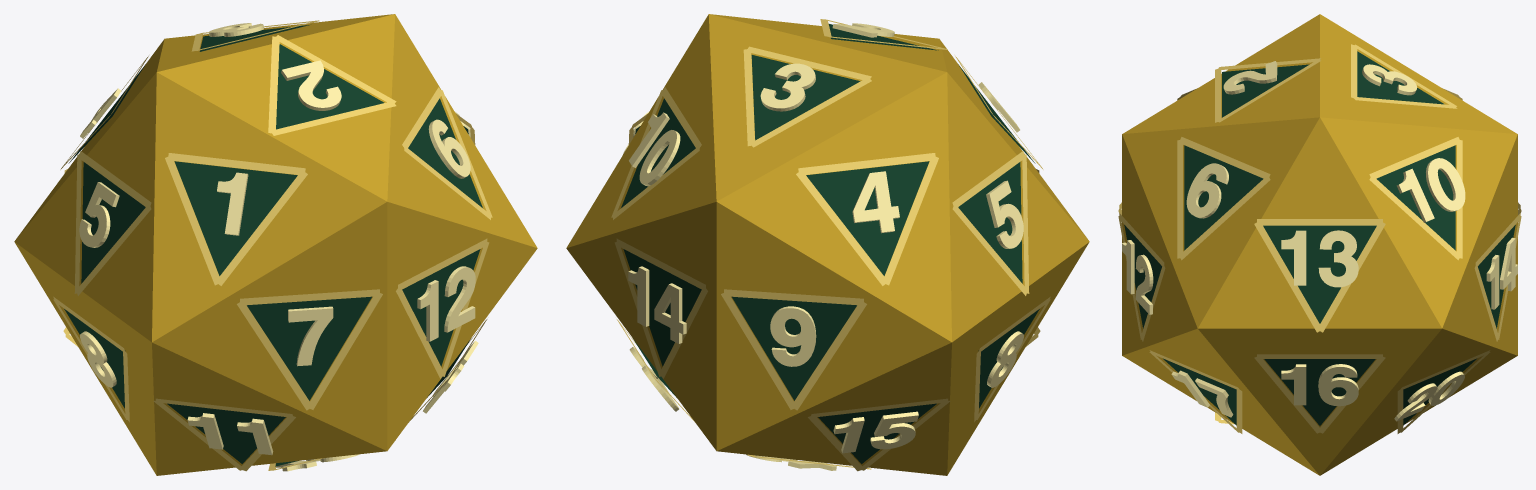
The picture shows the model from 3 angles, left to right: view 1: azimuth 30°, elevation 25°; view 2: azimuth 150°, elevation 25°; view 3: azimuth 270°, elevation 25°; orthographic projection. The views are drawn at different scales.
Visible parts, largest first — view 1: emerald-d20_body, inset_face_panel (×9), face_frame (×15), face_12_beveled_number, face_2_beveled_number, face_5_beveled_number, face_11_beveled_number, face_7_beveled_number, face_6_beveled_number, face_1_beveled_number, face_8_beveled_number, face_17_beveled_number (+1 smaller); view 2: emerald-d20_body, inset_face_panel (×9), face_frame (×16), face_14_beveled_number, face_9_beveled_number, face_15_beveled_number, face_10_beveled_number, face_4_beveled_number, face_3_beveled_number, face_5_beveled_number, face_8_beveled_number, face_2_beveled_number (+1 smaller); view 3: emerald-d20_body, inset_face_panel (×10), face_frame (×12), face_13_beveled_number, face_10_beveled_number, face_16_beveled_number, face_6_beveled_number, face_20_beveled_number, face_12_beveled_number, face_14_beveled_number, face_17_beveled_number, face_3_beveled_number (+1 smaller).
Boxes of the visible parts, x1,y1,x2,y2 form: emerald-d20_body: (14, 14, 537, 475); inset_face_panel (×9): (64, 25, 482, 463); face_frame (×15): (74, 35, 487, 417); face_12_beveled_number: (417, 266, 475, 341); face_2_beveled_number: (281, 60, 341, 110); face_5_beveled_number: (79, 182, 119, 247); face_11_beveled_number: (187, 413, 273, 455); face_7_beveled_number: (288, 306, 333, 366); face_6_beveled_number: (428, 119, 470, 178); face_1_beveled_number: (217, 172, 248, 235); face_8_beveled_number: (80, 331, 116, 387); face_17_beveled_number: (423, 340, 478, 413); emerald-d20_body: (566, 14, 1089, 475); inset_face_panel (×9): (621, 24, 1039, 463); face_frame (×16): (614, 46, 1029, 417); face_14_beveled_number: (628, 266, 686, 343); face_9_beveled_number: (770, 306, 816, 366); face_15_beveled_number: (833, 411, 918, 453); face_10_beveled_number: (629, 112, 680, 186); face_4_beveled_number: (852, 171, 899, 233); face_3_beveled_number: (760, 63, 815, 111); face_5_beveled_number: (986, 180, 1023, 248); face_8_beveled_number: (987, 331, 1023, 387); face_2_beveled_number: (832, 23, 894, 37); emerald-d20_body: (1122, 14, 1517, 475); inset_face_panel (×10): (1124, 51, 1515, 425); face_frame (×12): (1177, 137, 1462, 433); face_13_beveled_number: (1281, 230, 1358, 287); face_10_beveled_number: (1396, 158, 1465, 222); face_16_beveled_number: (1281, 364, 1358, 406); face_6_beveled_number: (1186, 163, 1228, 218); face_20_beveled_number: (1394, 371, 1464, 421); face_12_beveled_number: (1122, 240, 1153, 314); face_14_beveled_number: (1486, 237, 1517, 309); face_17_beveled_number: (1171, 370, 1233, 417); face_3_beveled_number: (1362, 64, 1417, 95).
Bounding box in the file's own units: 1.27 × 1.27 × 1.25.
